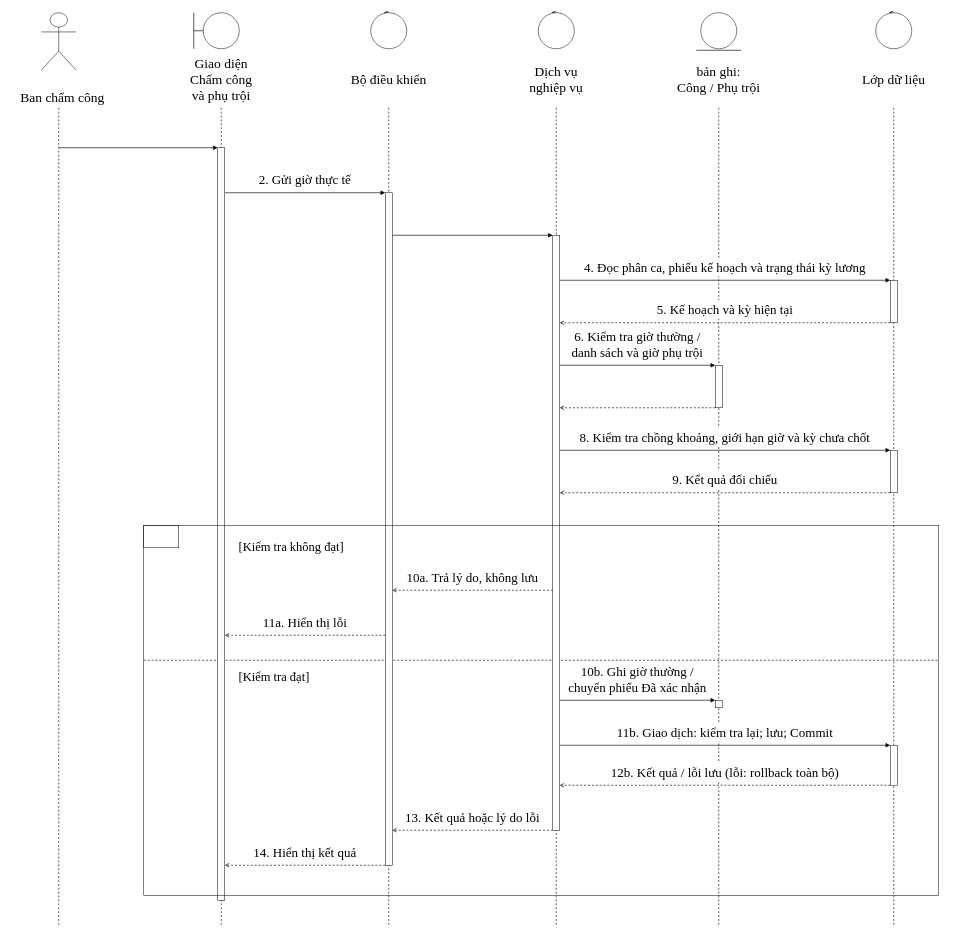
Image size: 970x935. Some labels were removed from this diagram. Each missing label, with the centre of its shape:
1. Chọn ca / phiếu, nhập giờ và người tham gia: [138,127]
3. Xử lý ghi công / xác nhận: [472,214]
7. Thông tin giờ hợp lệ: [637,394]
alt: [161,536]
